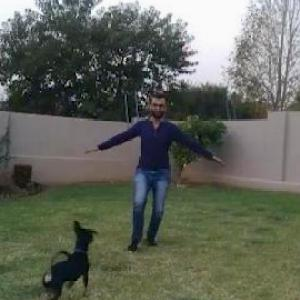land: (82, 60, 244, 277)
